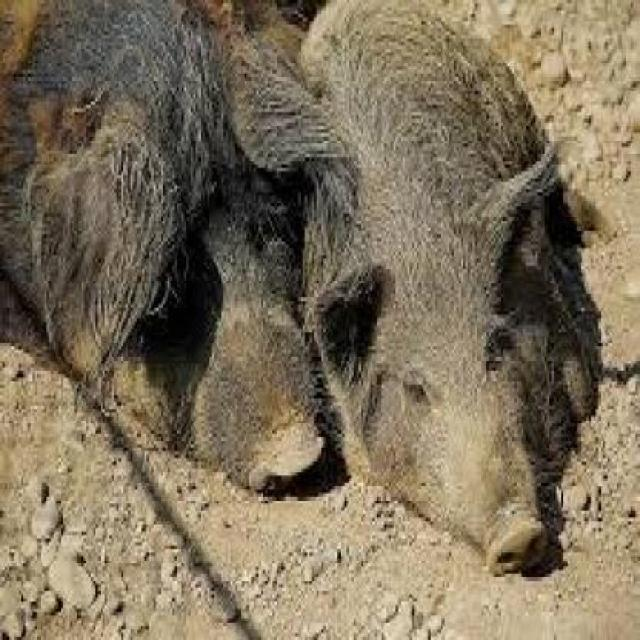wildboar: (214, 0, 612, 585), (0, 0, 363, 511)
